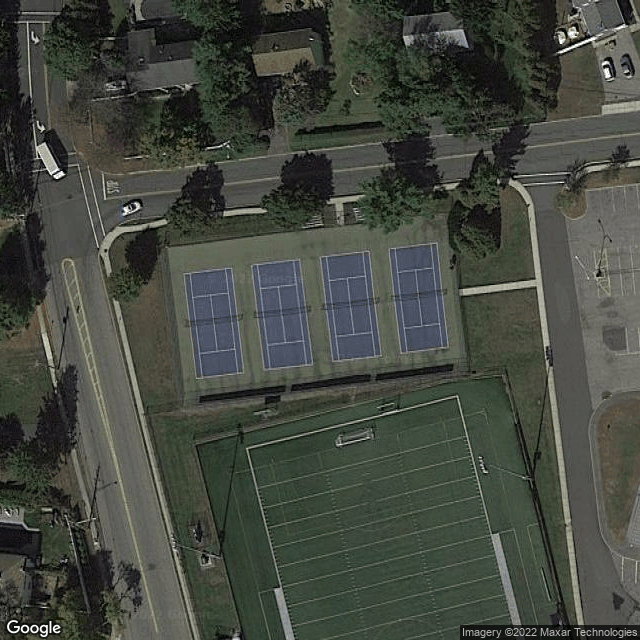Court: (180, 266, 245, 380), (251, 257, 314, 372), (320, 249, 383, 363), (388, 241, 450, 354)
